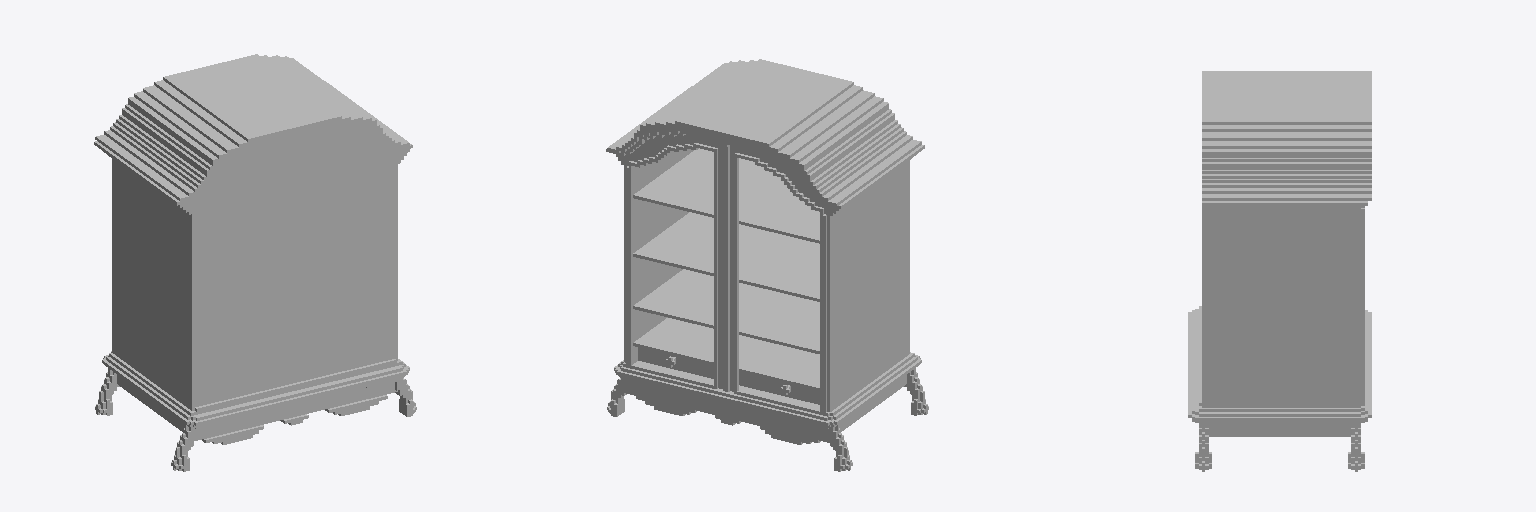
Rendered from Armoire.obj.
The picture shows the model from 3 angles: view 1: azimuth 30°, elevation 25°; view 2: azimuth 150°, elevation 25°; view 3: azimuth 270°, elevation 25°; orthographic projection.
Parts seen in each view (by area): view 1: object 1; view 2: object 1; view 3: object 1.
Part boxes in pixels (x1,y1,x2,y2): object 1: (94, 54, 416, 471); object 1: (606, 59, 928, 471); object 1: (1188, 71, 1371, 471).
Size of the model in its own units: 8.2 by 10.2 by 5.4.